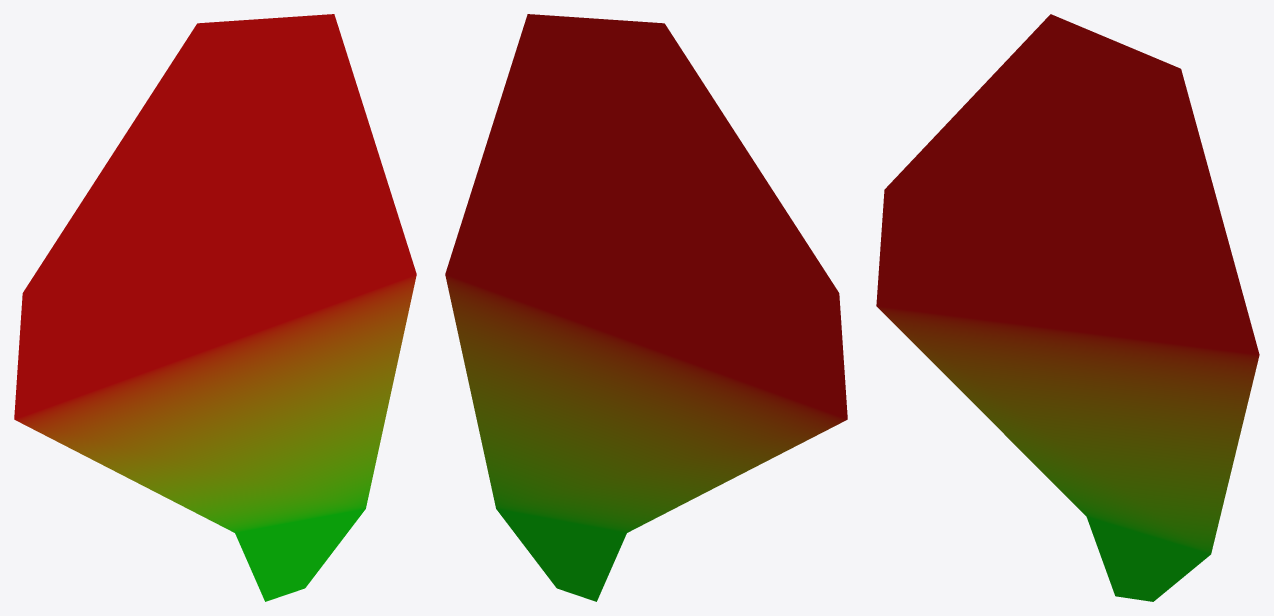
The model's file is Sea Wheatgrass_LOD3_Var2_ui2oagjia.fbx.
3 views of the same model, side by side, from view 1: azimuth 30°, elevation 25°; view 2: azimuth 150°, elevation 25°; view 3: azimuth 330°, elevation 25° (orthographic). The views are drawn at different scales.
Visible parts, largest first — view 1: _71ih_Var2_LOD3; view 2: _71ih_Var2_LOD3; view 3: _71ih_Var2_LOD3.
Boxes of the visible parts, x1,y1,x2,y2 form: _71ih_Var2_LOD3: (14,14,416,601); _71ih_Var2_LOD3: (445,14,847,601); _71ih_Var2_LOD3: (876,14,1259,601).
Size of the model in its own units: 58.02 by 81.96 by 3.58e-06.
